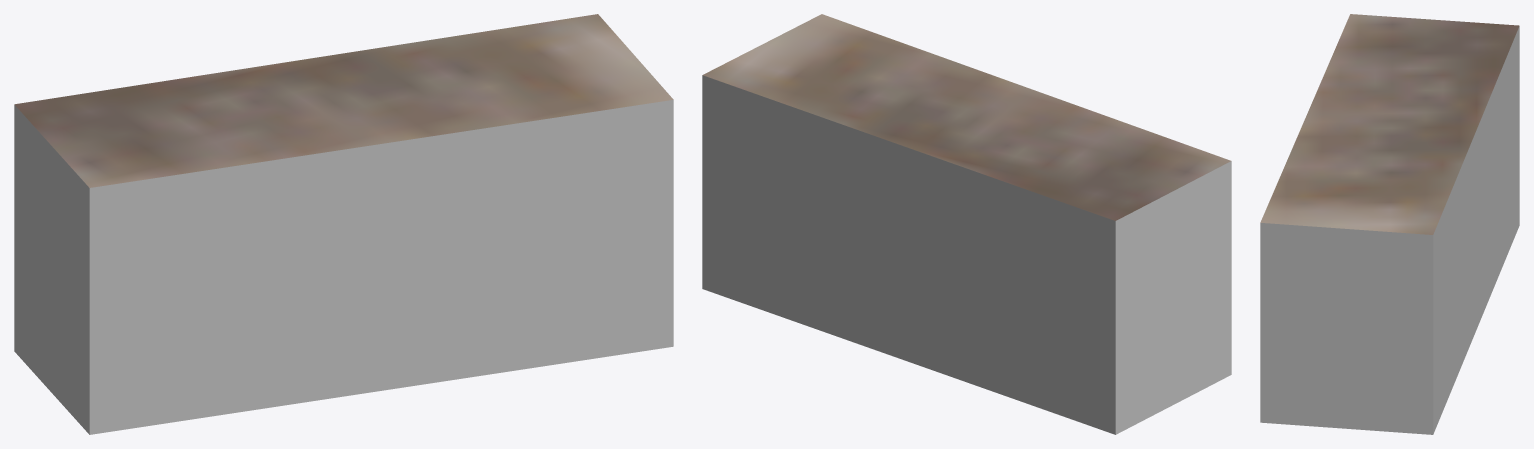
The model's file is DEBW_0010007THTi.gltf.
3 renders of one model, left to right at view 1: azimuth 30°, elevation 25°; view 2: azimuth 150°, elevation 25°; view 3: azimuth 270°, elevation 25°, orthographic. The views are drawn at different scales.
Visible parts, largest first — view 1: Z_UP; view 2: Z_UP; view 3: Z_UP.
Boxes of the visible parts, bbox=[...] form: Z_UP: bbox=[14, 14, 673, 434]; Z_UP: bbox=[702, 14, 1231, 434]; Z_UP: bbox=[1260, 14, 1519, 434].
Size of the model in its own units: 5.93 by 2.5 by 2.94.
2 materials, 1 textured.
